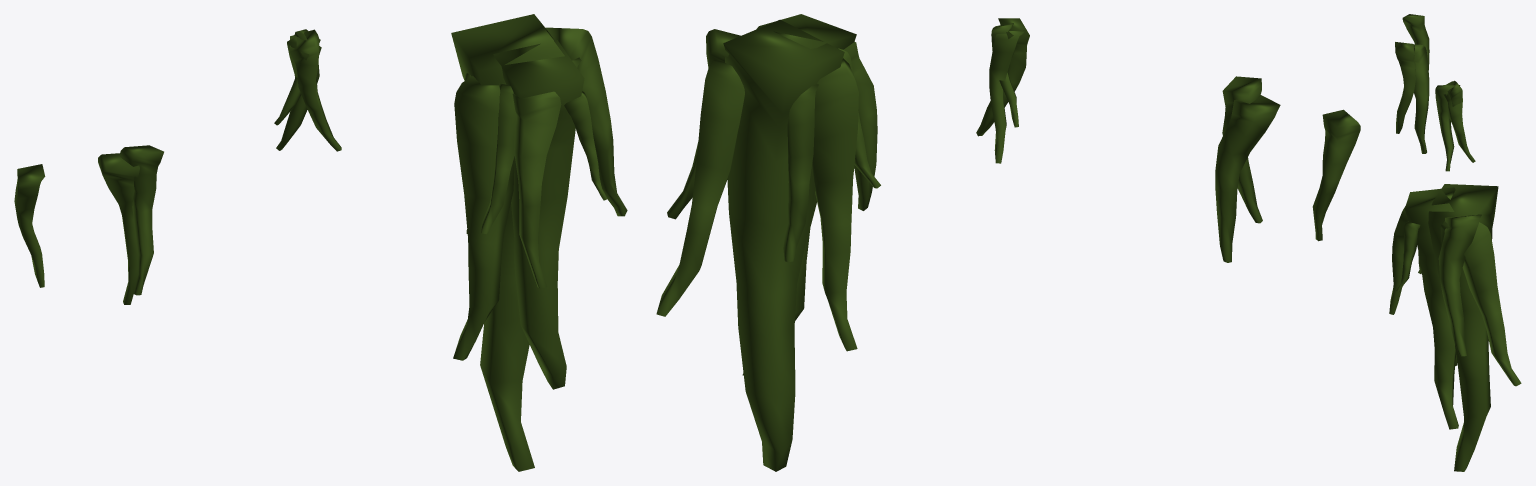
Rendered from Crazy_Grass.glb.
3 renders of one model, left to right at view 1: azimuth 30°, elevation 25°; view 2: azimuth 150°, elevation 25°; view 3: azimuth 270°, elevation 25°, orthographic. The views are drawn at different scales.
Visible parts, largest first — view 1: Cube, Cube.001, Cube.002, Cube.009, Cube.008, Cube.011, Cube.010, Cube.007, Cube.013, Cube.012, Cube.006, Cube.014; view 2: Cube.001, Cube.002, Cube.005, Cube.010, Cube.003, Cube.012, Cube.009, Cube, Cube.014, Cube.011, Cube.013, Cube.008 (+1 smaller); view 3: Cube.001, Cube, Cube.005, Cube.008, Cube.010, Cube.011, Cube.009, Cube.013, Cube.006, Cube.014, Cube.012, Cube.015.
Boxes of the visible parts, x1=… form: Cube: x1=493, y1=40, x2=584, y2=389; Cube.001: x1=451, y1=14, x2=564, y2=471; Cube.002: x1=453, y1=76, x2=514, y2=360; Cube.009: x1=512, y1=91, x2=561, y2=288; Cube.008: x1=545, y1=27, x2=627, y2=216; Cube.011: x1=119, y1=145, x2=163, y2=295; Cube.010: x1=98, y1=153, x2=139, y2=304; Cube.007: x1=481, y1=83, x2=516, y2=234; Cube.013: x1=290, y1=29, x2=341, y2=151; Cube.012: x1=14, y1=164, x2=45, y2=287; Cube.006: x1=564, y1=91, x2=607, y2=200; Cube.014: x1=276, y1=37, x2=321, y2=150; Cube.001: x1=723, y1=19, x2=844, y2=471; Cube.002: x1=812, y1=58, x2=858, y2=351; Cube.005: x1=656, y1=59, x2=744, y2=316; Cube.010: x1=1215, y1=95, x2=1280, y2=262; Cube.003: x1=783, y1=84, x2=818, y2=262; Cube.012: x1=1312, y1=109, x2=1360, y2=241; Cube.009: x1=843, y1=41, x2=877, y2=210; Cube: x1=742, y1=14, x2=856, y2=375; Cube.014: x1=989, y1=30, x2=1025, y2=163; Cube.011: x1=1222, y1=76, x2=1262, y2=223; Cube.013: x1=976, y1=18, x2=1029, y2=136; Cube.008: x1=667, y1=29, x2=740, y2=219; Cube.001: x1=1428, y1=184, x2=1498, y2=471; Cube: x1=1404, y1=187, x2=1458, y2=429; Cube.005: x1=1462, y1=222, x2=1521, y2=386; Cube.008: x1=1438, y1=214, x2=1481, y2=356; Cube.010: x1=1414, y1=44, x2=1429, y2=153; Cube.011: x1=1395, y1=42, x2=1415, y2=133; Cube.009: x1=1389, y1=206, x2=1408, y2=314; Cube.013: x1=1435, y1=85, x2=1460, y2=171; Cube.006: x1=1396, y1=221, x2=1420, y2=291; Cube.014: x1=1443, y1=81, x2=1475, y2=162; Cube.012: x1=1402, y1=14, x2=1429, y2=69; Cube.015: x1=1446, y1=80, x2=1462, y2=106.
Bounding box in the file's own units: 4.48 × 3.26 × 1.23.
